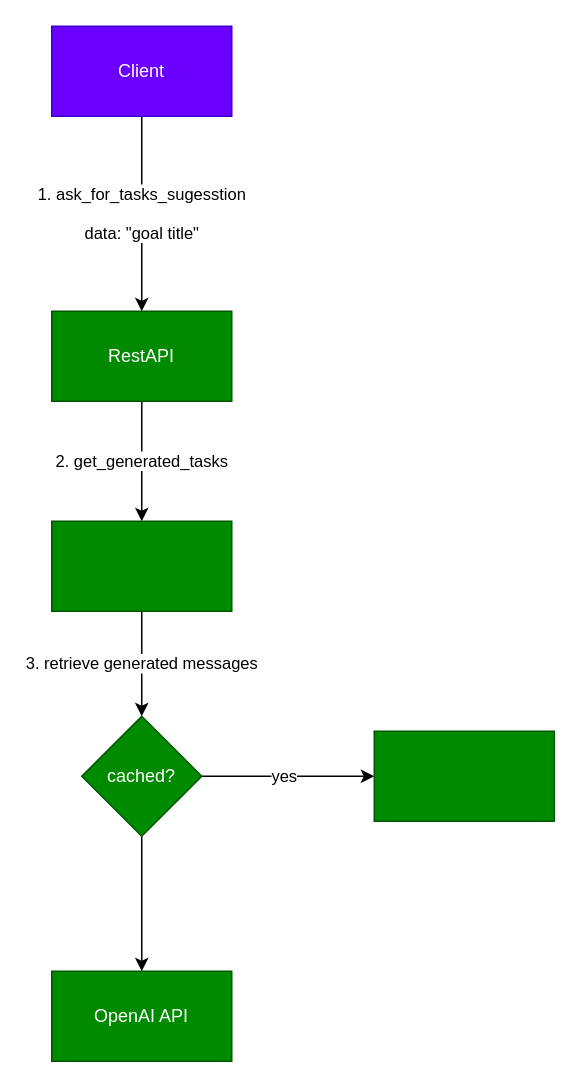
Image size: 581x1088. Some labels were removed from this diagram. The centre of each missing label's shape, as x and y in pixels:
"Prompt Service" goes at point 141,565.
"Storage" goes at point 463,775.
